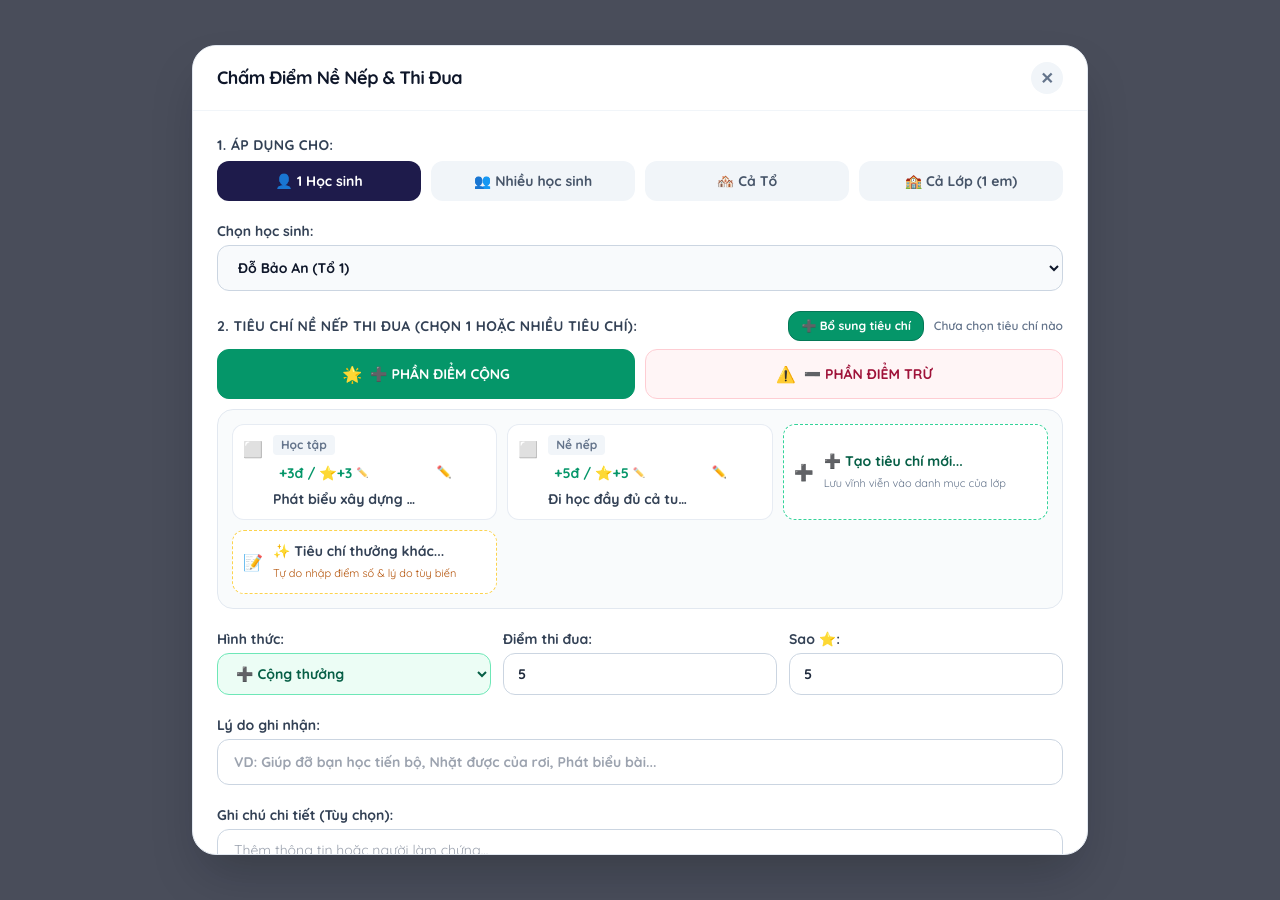
Scenario: AwardPointsModal Component › cho phép chọn nhiều tiêu chí cùng lúc và tự động tính tổng dồn điểm, sao và lý do
Note: Chọn tiêu chí 1 (+3đ, ⭐+3)
Step 1. Click the button "⬜ Học tập +3đ / ⭐+3 ✏️ Phát biểu xây dựng bài tích cực" → (331, 472), box [233, 425, 428, 519]
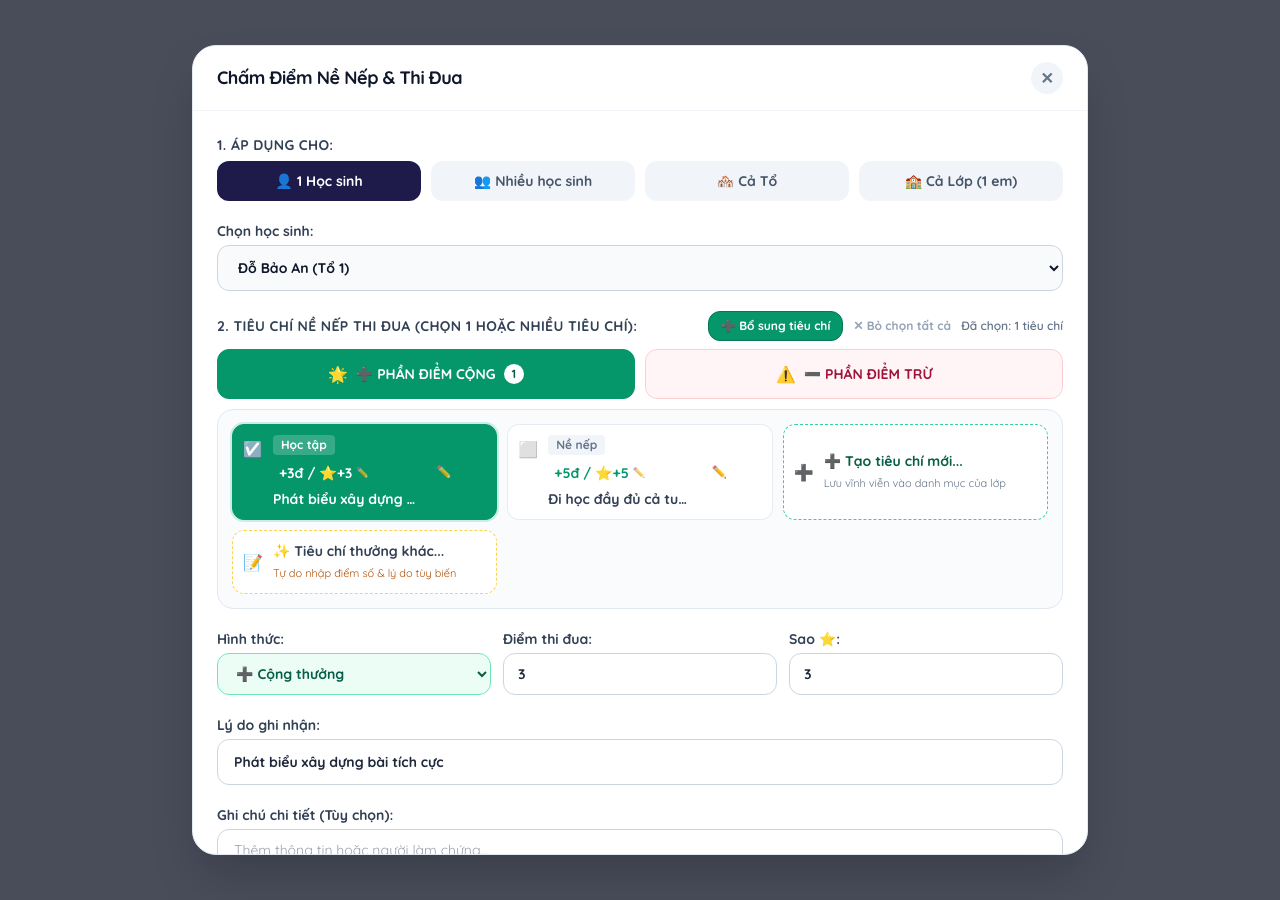
Note: Chọn thêm tiêu chí 2 (+5đ, ⭐+5)
Step 2. Click the button "⬜ Nề nếp +5đ / ⭐+5 ✏️ Đi học đầy đủ cả tuần" → (606, 472), box [508, 425, 704, 519]
(page scrolled)
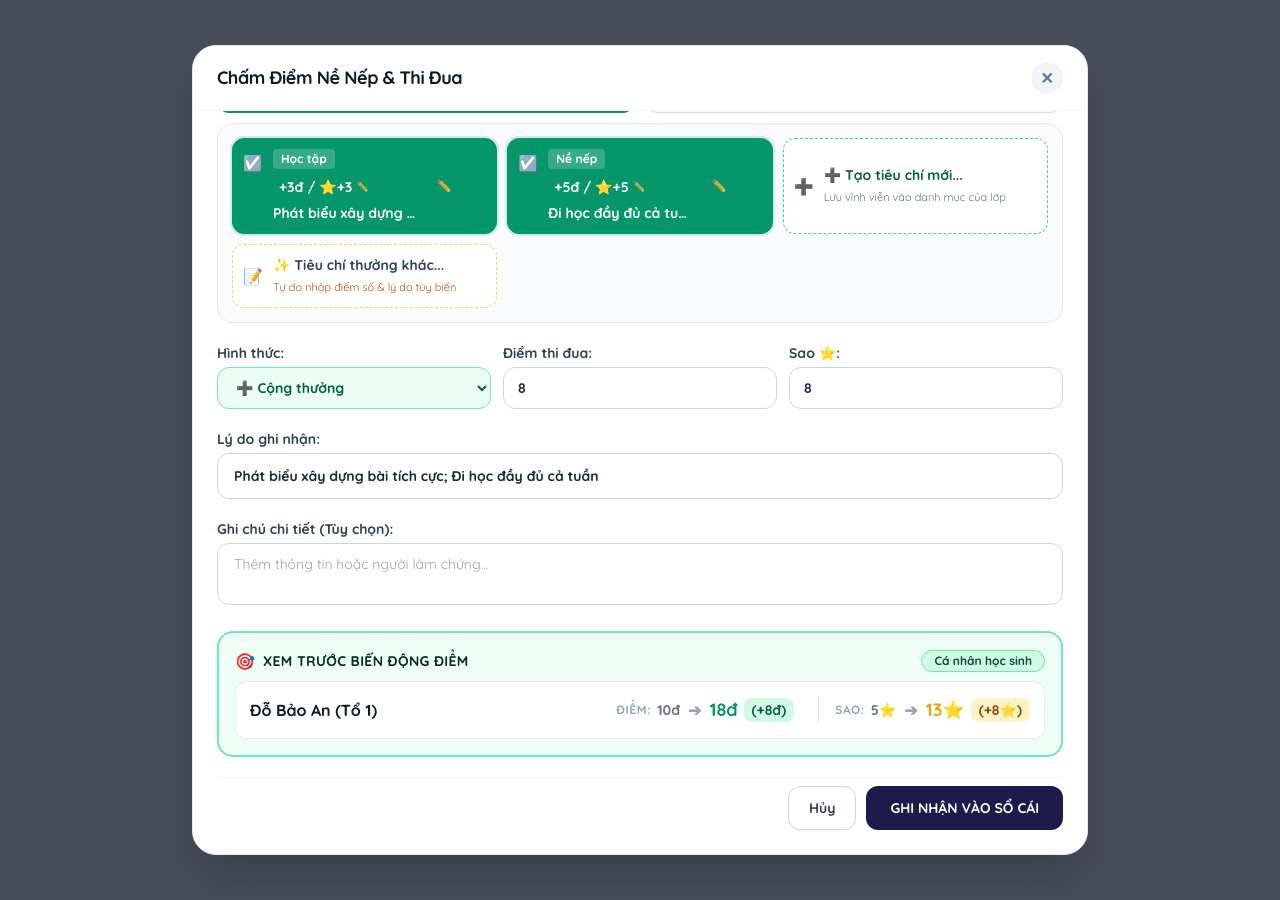
expect the element with test id "live-preview-badge" shows "10đ": met, box [217, 631, 1063, 757]
expect the element with test id "live-preview-badge" shows "18đ": met, box [217, 631, 1063, 757]
